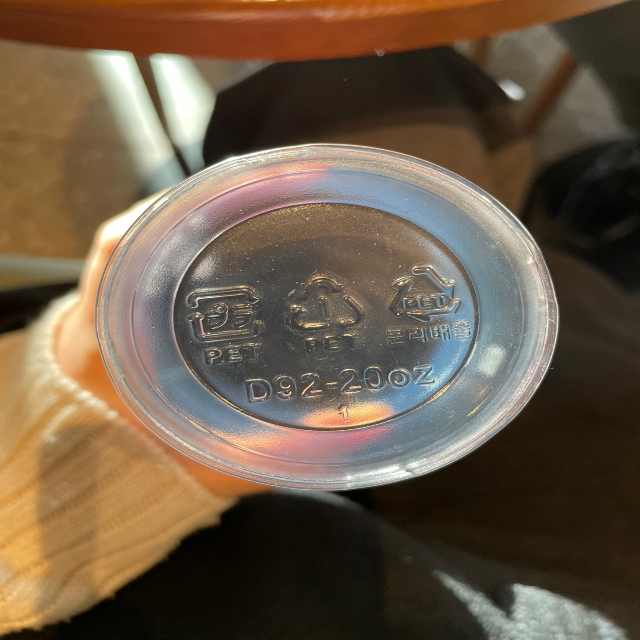pet: (379, 261, 475, 349), (283, 270, 373, 360), (178, 283, 267, 373)
